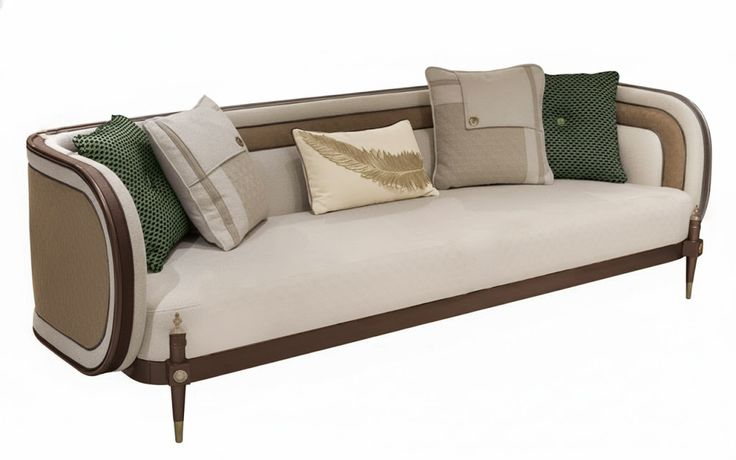3seatersofa: (23, 59, 712, 387)
backrest: (223, 86, 433, 216), (46, 126, 85, 153)
base: (192, 243, 688, 380), (125, 359, 167, 383)
leftarmrest: (618, 84, 711, 216)
leg: (166, 312, 190, 442), (684, 206, 701, 298)
pillow: (292, 64, 627, 214), (73, 96, 266, 271)
rightarmrest: (27, 134, 146, 373)
seat: (138, 180, 693, 360)
